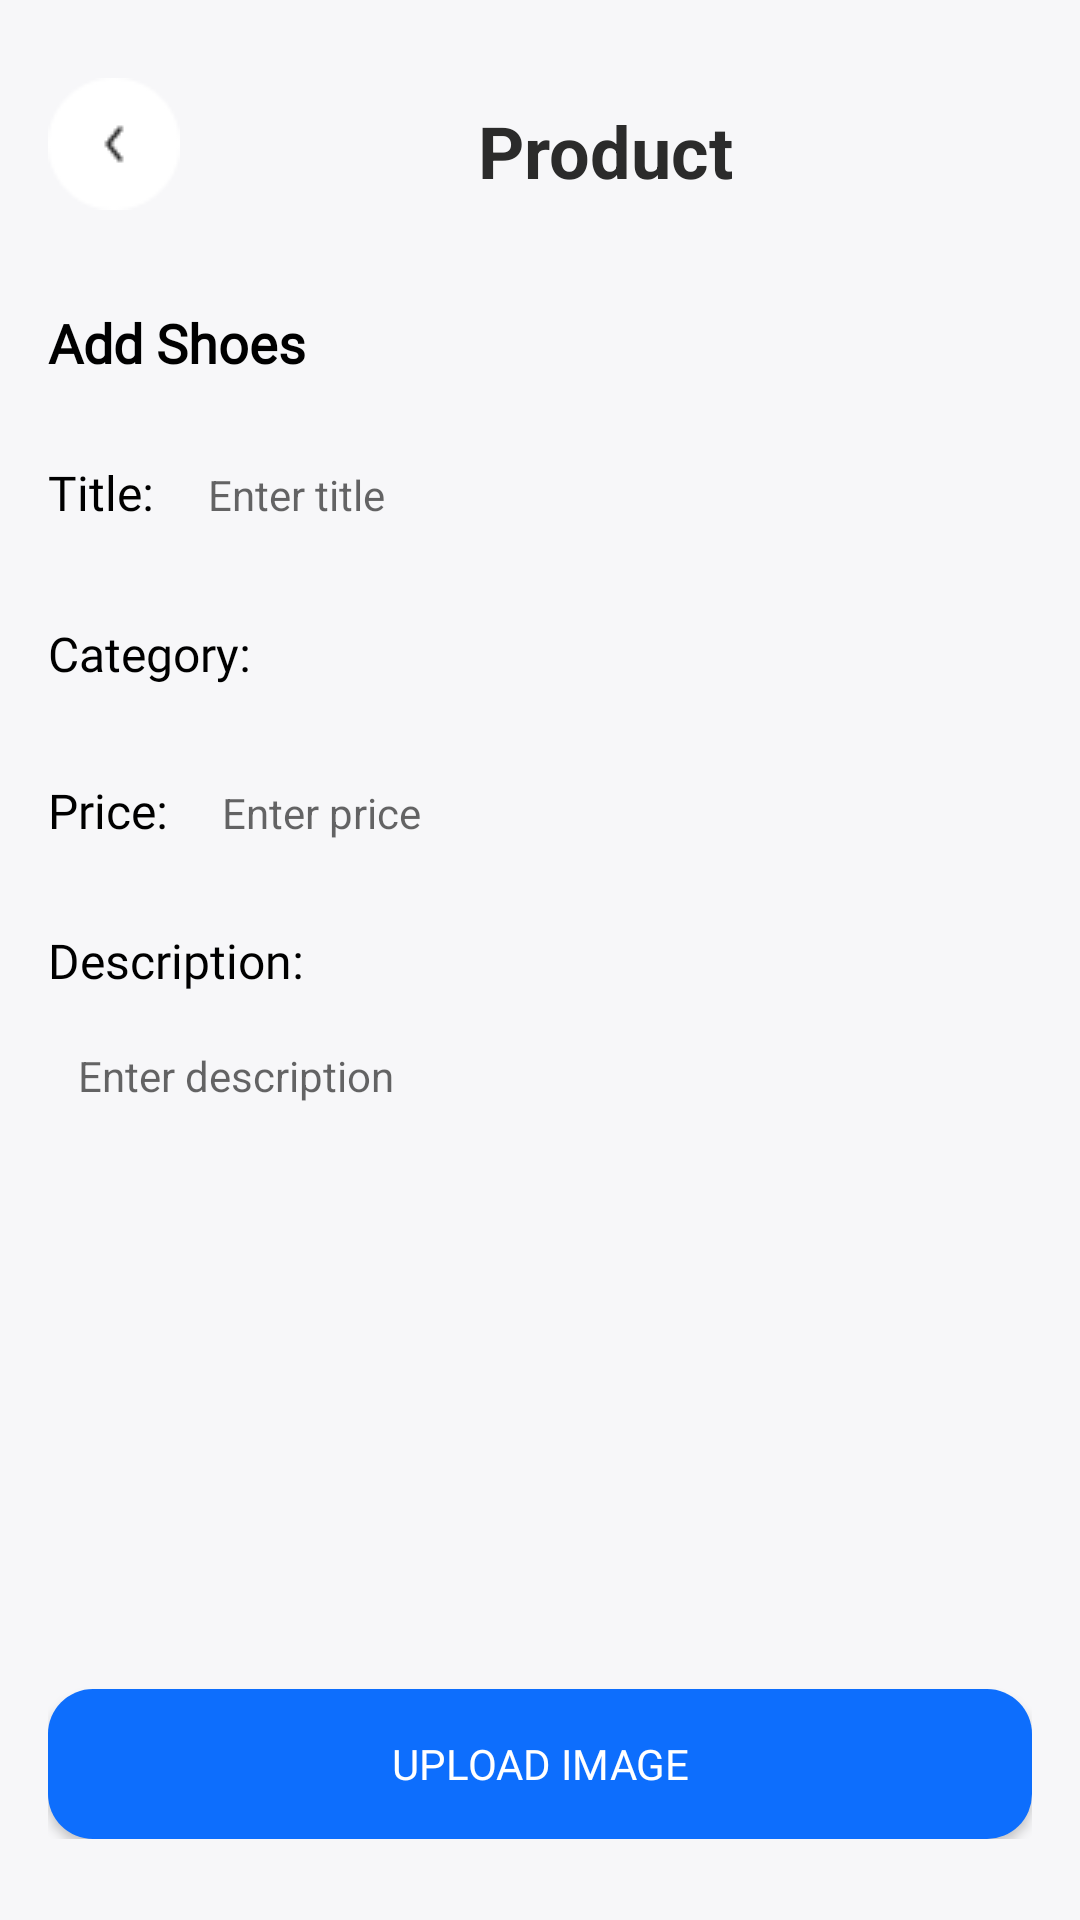

Where to tap for icons on this 1080 × 1920 app screen, as (x,y):
back: (114,144)
